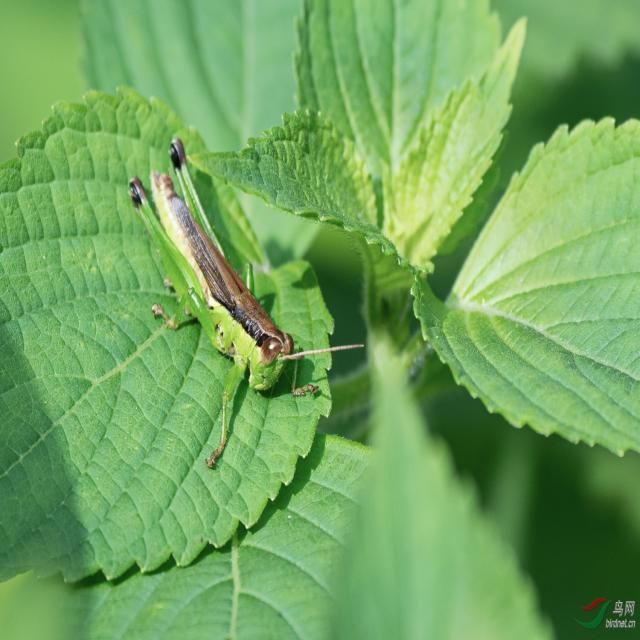ZhaMeng: (119, 144, 320, 427)
